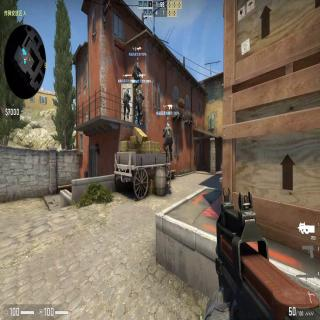CT-Body: (163, 122, 173, 161), (137, 87, 145, 125), (123, 87, 131, 121)
CT-Head: (166, 122, 170, 127), (126, 88, 129, 92), (141, 88, 143, 94)
